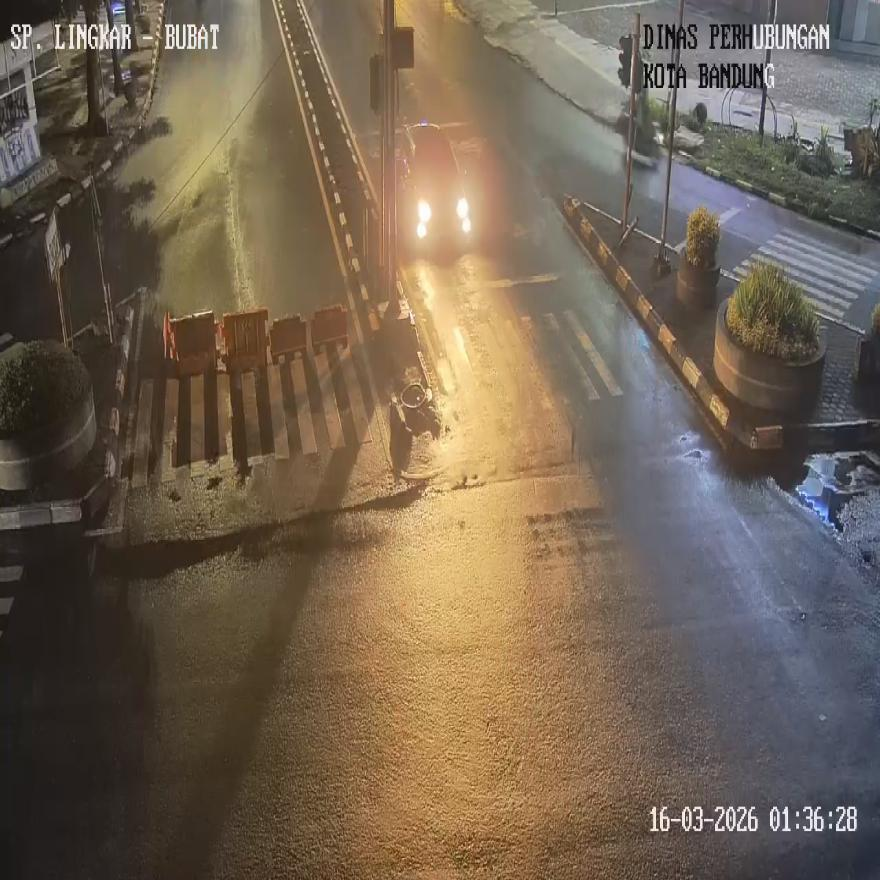Mobil: (397, 122, 474, 254)
Motor: (635, 93, 659, 154)
